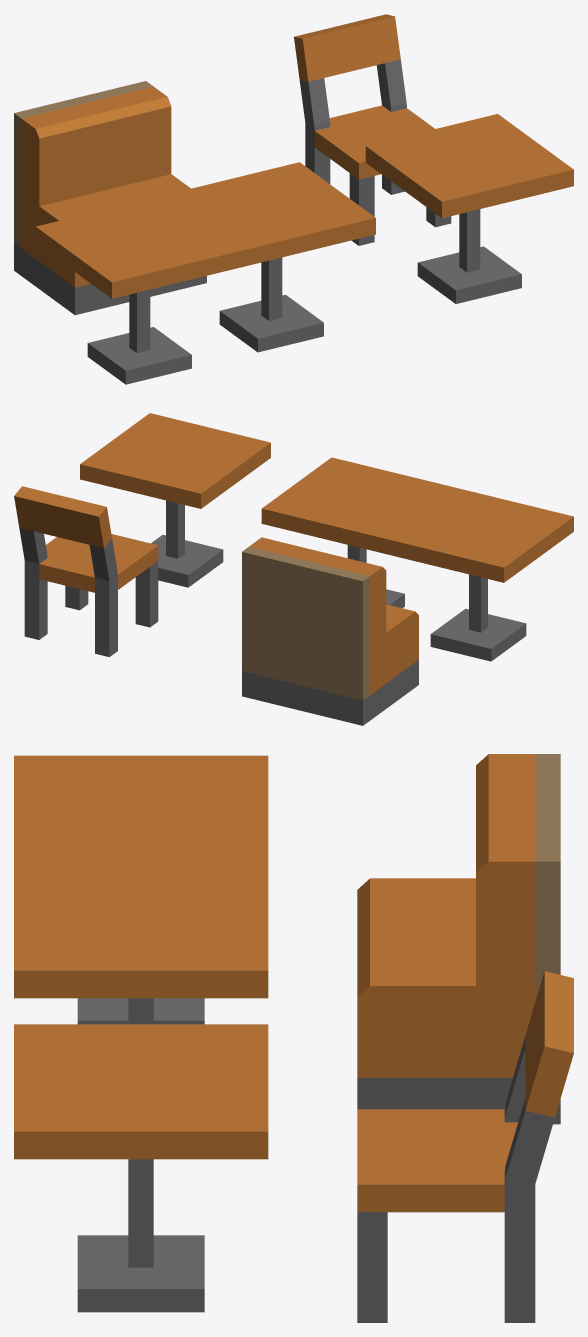
The model's file is Seating07.fbx.
3 views of the same model, one above another, from view 1: azimuth 30°, elevation 25°; view 2: azimuth 150°, elevation 25°; view 3: azimuth 270°, elevation 25° (orthographic). The views are drawn at different scales.
Parts seen in each view (by area): view 1: Table_Long, Sofa, Table, Chair; view 2: Sofa, Table_Long, Chair, Table; view 3: Table_Long, Sofa, Table, Chair.
Part boxes in pixels (bbox=[...]): Table_Long: bbox=[35, 162, 375, 384]; Sofa: bbox=[14, 81, 206, 315]; Table: bbox=[365, 114, 573, 303]; Chair: bbox=[294, 14, 451, 245]; Sofa: bbox=[242, 537, 418, 725]; Table_Long: bbox=[261, 457, 573, 661]; Chair: bbox=[14, 486, 158, 657]; Table: bbox=[80, 413, 270, 587]; Table_Long: bbox=[14, 755, 268, 1024]; Sofa: bbox=[357, 754, 560, 1124]; Table: bbox=[14, 1024, 268, 1312]; Chair: bbox=[357, 971, 573, 1322].
Size of the model in its own units: 3.5 by 1.2 by 2.2.
1 material, 1 textured.
